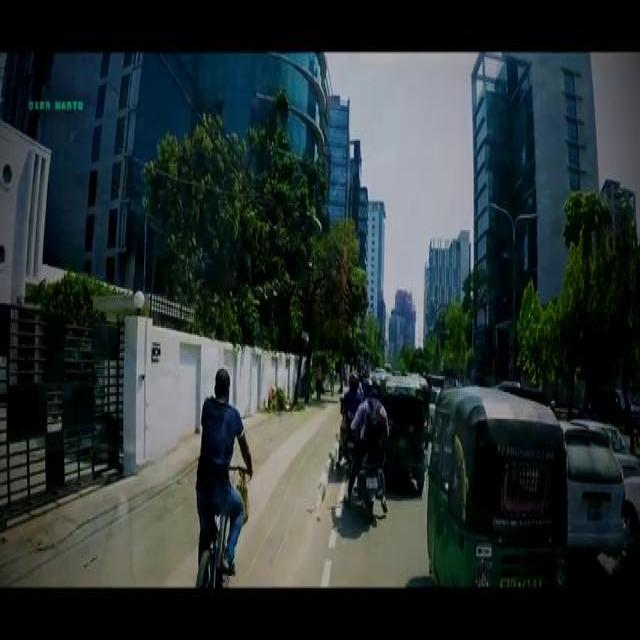bicycle: (194, 459, 250, 586)
car: (562, 416, 626, 548)
motorbike: (348, 431, 379, 516)
three wheelers -CNG-: (426, 382, 566, 584), (379, 371, 425, 490)
